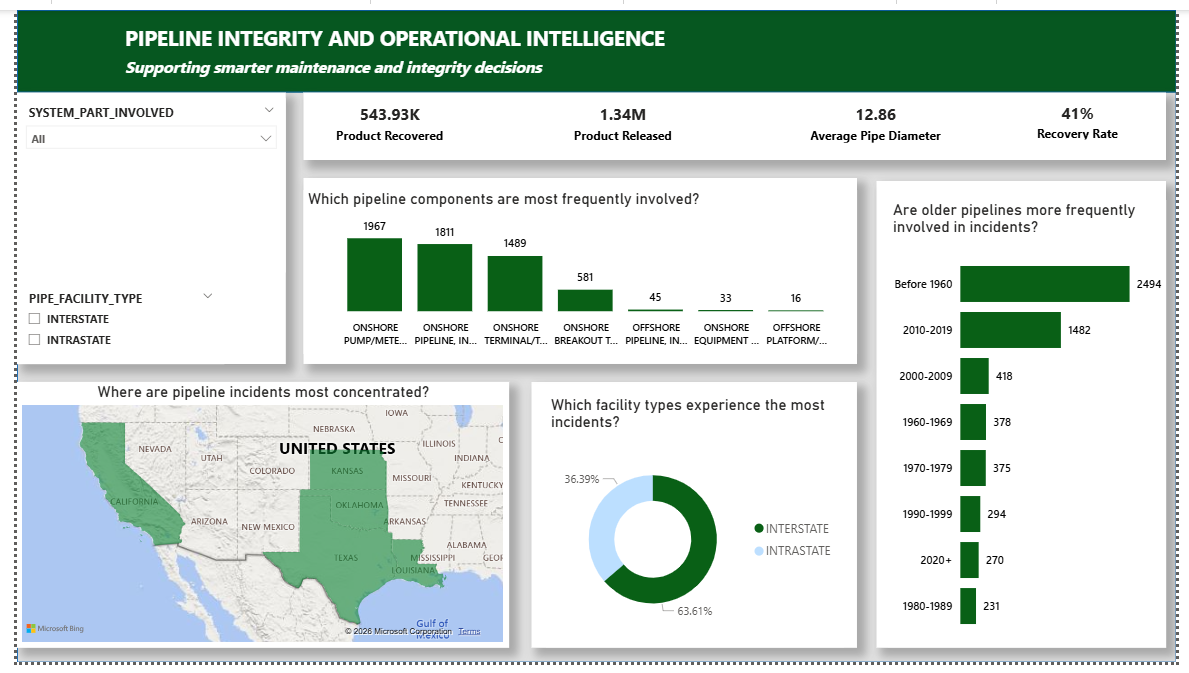

This screenshot's page, from the dashboard's own definition file:
{"tool":"powerbi","page":{"name":"pipeline integrity","canvas":[1280,720],"ordinal":1},"visuals":[{"type":"shape","box":[0,0,1280.5,720.6],"z":0},{"type":"shape","box":[0,0,1280.5,91.1],"z":1000},{"type":"shape","box":[949.2,188.8,319.7,515.2],"z":2000},{"type":"shape","box":[568.2,410.8,359.5,293.2],"z":3000},{"type":"shape","box":[0,91.1,296.5,299.8],"z":4000},{"type":"shape","box":[316.4,91.1,952.5,74.5],"z":5000},{"type":"shape","box":[316.4,185.5,611.2,205.4],"z":6000},{"type":"filledMap","title":"Where are pipeline incidents most concentrated?","fields":{"Category":["keystra_solution2 pipeline_incidents.ONSHORE_STATE_ABBREVIATION"]},"box":[0,410.8,543.3,293.2],"z":7000},{"type":"donutChart","title":"Which facility types experience the most incidents?","fields":{"Category":["keystra_solution2 pipeline_incidents.PIPE_FACILITY_TYPE"],"Y":["keystra_solution2 pipeline_incidents.Total Pipeline Incidents"]},"box":[584.7,425.7,328,278.3],"z":8000},{"type":"clusteredColumnChart","title":"Which pipeline components are most frequently involved?","fields":{"Category":["keystra_solution2 pipeline_incidents.SYSTEM_PART_INVOLVED"],"Y":["keystra_solution2 pipeline_incidents.Total Pipeline Incidents"]},"box":[316.4,198.8,611.2,180.6],"z":9000},{"type":"clusteredBarChart","title":"Are older pipelines more frequently involved in incidents?","fields":{"Category":["keystra_solution2 pipeline_incidents.Installation Year Group"],"Y":["keystra_solution2 pipeline_incidents.Total Pipeline Incidents"]},"box":[962.4,210.4,306.4,493.6],"z":10000},{"type":"cardVisual","fields":{"Data":["keystra_solution2 pipeline_incidents.Total Product Recovered"]},"box":[296.5,87.8,230.3,74.5],"z":10001},{"type":"cardVisual","fields":{"Data":["keystra_solution2 pipeline_incidents.Total Product Released"]},"box":[545,87.8,248.5,74.5],"z":10002},{"type":"cardVisual","fields":{"Data":["keystra_solution2 pipeline_incidents.Average Pipe Diameter"]},"box":[821.6,81.2,253.4,87.8],"z":10003},{"type":"cardVisual","fields":{"Data":["keystra_solution2 pipeline_incidents.Recovery Rate"]},"box":[1075.1,86.1,192.2,74.5],"z":10004},{"type":"slicer","fields":{"Values":["keystra_solution2 pipeline_incidents.PIPE_FACILITY_TYPE"]},"box":[0,303.1,228.6,87.8],"z":10005},{"type":"slicer","fields":{"Values":["keystra_solution2 pipeline_incidents.SYSTEM_PART_INVOLVED"]},"box":[0,97.7,296.5,192.2],"z":10006},{"type":"textbox","title":"PIPELINE INTEGRITY AND OPERATIONAL INTELLIGENCE","box":[114.3,14.9,735.5,62.9],"z":10007}]}

Visuals, with their boxes in screenshot pixels (x1, y1, x2, y2), scaled from the page's 1280x720 canvas onto the 1189x673 screenshot:
shape: box(0, 0, 1188, 672)
shape: box(0, 0, 1188, 85)
shape: box(882, 176, 1179, 658)
shape: box(528, 384, 862, 658)
shape: box(0, 85, 275, 365)
shape: box(294, 85, 1179, 155)
shape: box(294, 173, 862, 365)
"Where are pipeline incidents most concentrated?" filledMap: box(0, 384, 505, 658)
"Which facility types experience the most incidents?" donutChart: box(543, 398, 848, 658)
"Which pipeline components are most frequently involved?" clusteredColumnChart: box(294, 186, 862, 355)
"Are older pipelines more frequently involved in incidents?" clusteredBarChart: box(894, 197, 1179, 658)
cardVisual - keystra_solution2 pipeline_incidents.Total Product Recovered: box(275, 82, 489, 152)
cardVisual - keystra_solution2 pipeline_incidents.Total Product Released: box(506, 82, 737, 152)
cardVisual - keystra_solution2 pipeline_incidents.Average Pipe Diameter: box(763, 76, 999, 158)
cardVisual - keystra_solution2 pipeline_incidents.Recovery Rate: box(999, 80, 1177, 150)
slicer - keystra_solution2 pipeline_incidents.PIPE_FACILITY_TYPE: box(0, 283, 212, 365)
slicer - keystra_solution2 pipeline_incidents.SYSTEM_PART_INVOLVED: box(0, 91, 275, 271)
"PIPELINE INTEGRITY AND OPERATIONAL INTELLIGENCE" textbox: box(106, 14, 789, 73)
